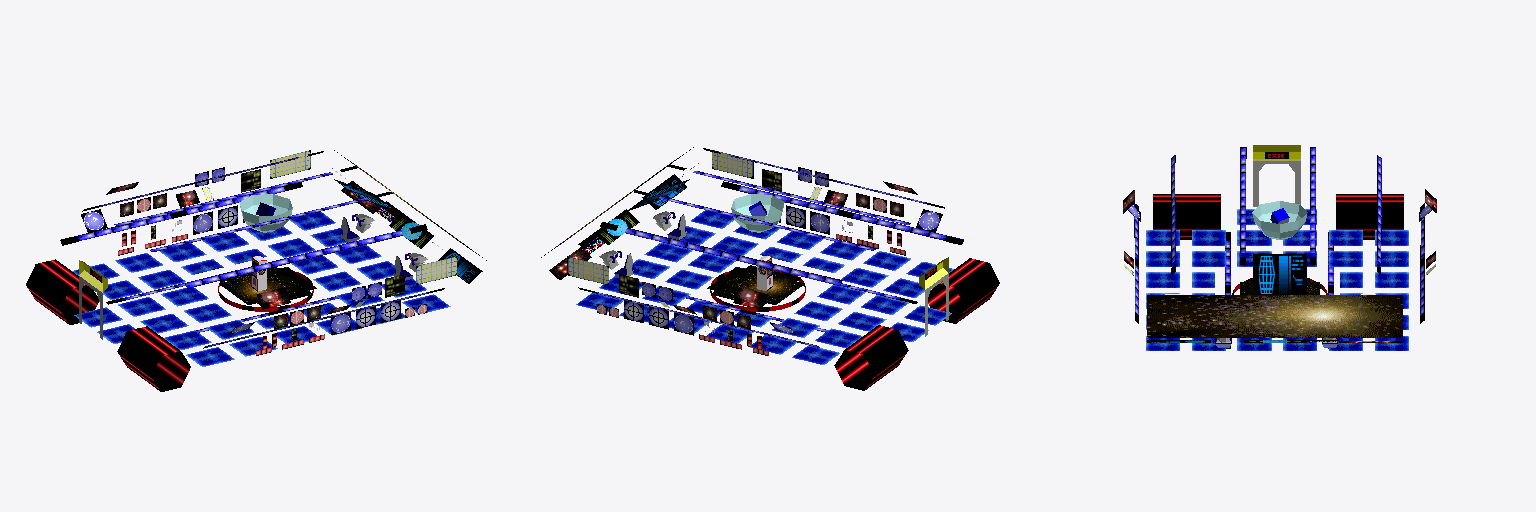
3 renders of one model, left to right at view 1: azimuth 30°, elevation 25°; view 2: azimuth 150°, elevation 25°; view 3: azimuth 270°, elevation 25°, orthographic.
Parts seen in each view (by area): view 1: group1, group0, group3, group5, group2; view 2: group1, group0, group3, group5, group2; view 3: group1, group2, group0, group3.
Boxes of the visible parts, x1=… form: group1: x1=61, y1=150, x2=482, y2=366; group0: x1=26, y1=151, x2=444, y2=391; group3: x1=26, y1=209, x2=350, y2=391; group5: x1=219, y1=267, x2=316, y2=305; group2: x1=172, y1=150, x2=486, y2=330; group1: x1=549, y1=150, x2=963, y2=364; group0: x1=578, y1=148, x2=999, y2=390; group3: x1=674, y1=209, x2=998, y2=389; group5: x1=707, y1=265, x2=804, y2=304; group2: x1=541, y1=147, x2=852, y2=333; group1: x1=1123, y1=147, x2=1436, y2=350; group2: x1=1147, y1=294, x2=1402, y2=342; group0: x1=1135, y1=145, x2=1424, y2=348; group3: x1=1128, y1=194, x2=1431, y2=239.
Size of the model in its own units: 117 by 33.92 by 94.4.
7 materials, 6 textured.